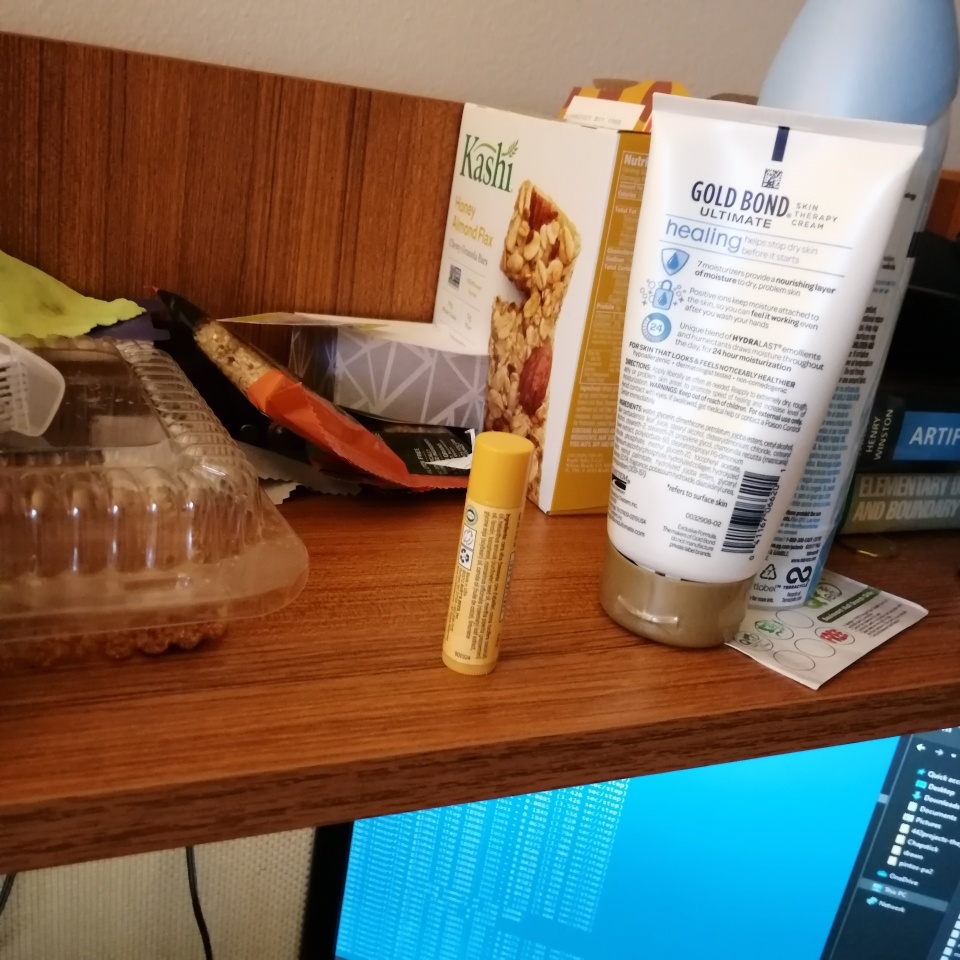chapstick: (442, 431, 534, 677)
